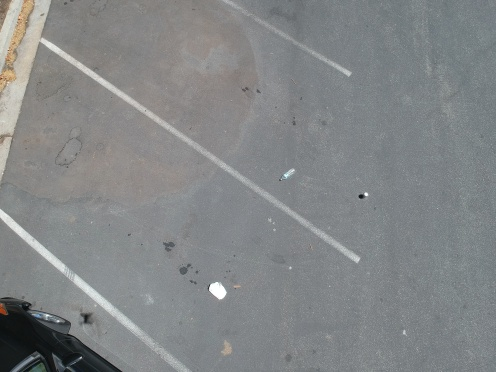bottle: (273, 158, 299, 185)
can: (358, 191, 370, 201)
plastic bag: (203, 280, 234, 303)
